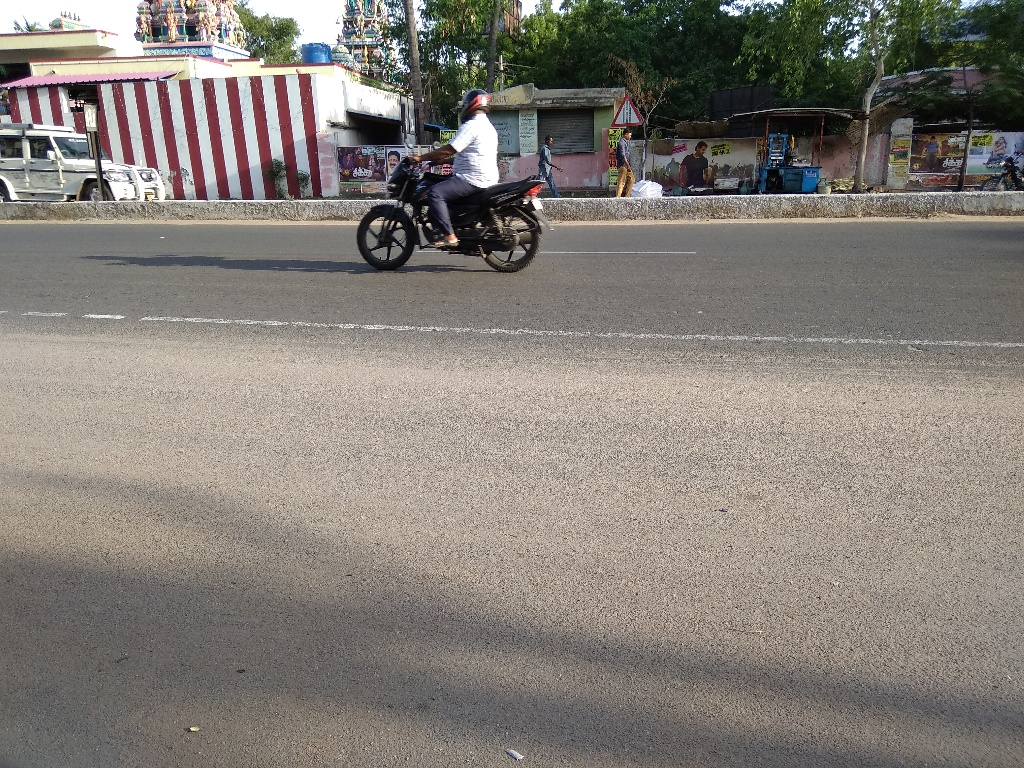biker: (350, 59, 563, 279)
helmet: (448, 76, 499, 131)
